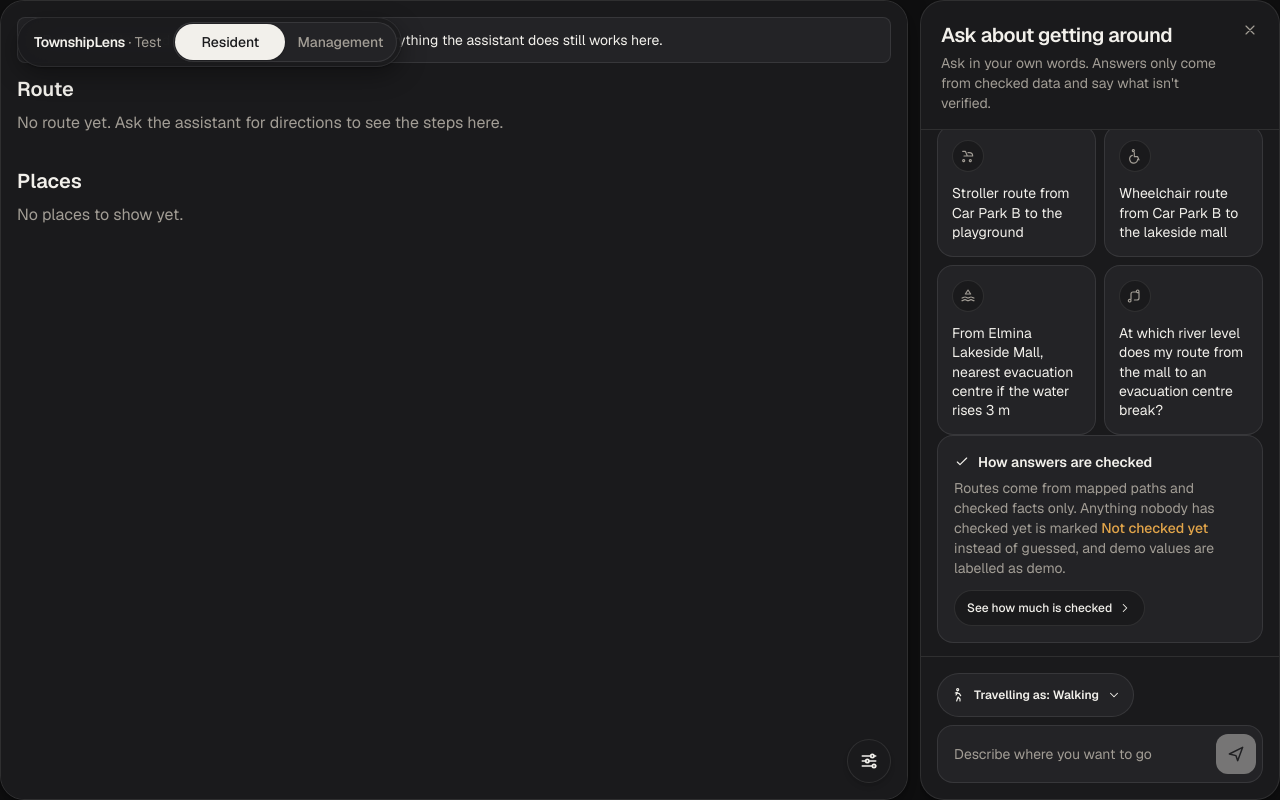
Scenario: MainPage › settings reveal the legend; +3 m shows the not-a-forecast note
The image size is (1280, 800).
(page scrolled)
Step 1. Click the button named "Map settings" → {"x": 869, "y": 761}, box x1=847 y1=739 x2=891 y2=783
(page scrolled)
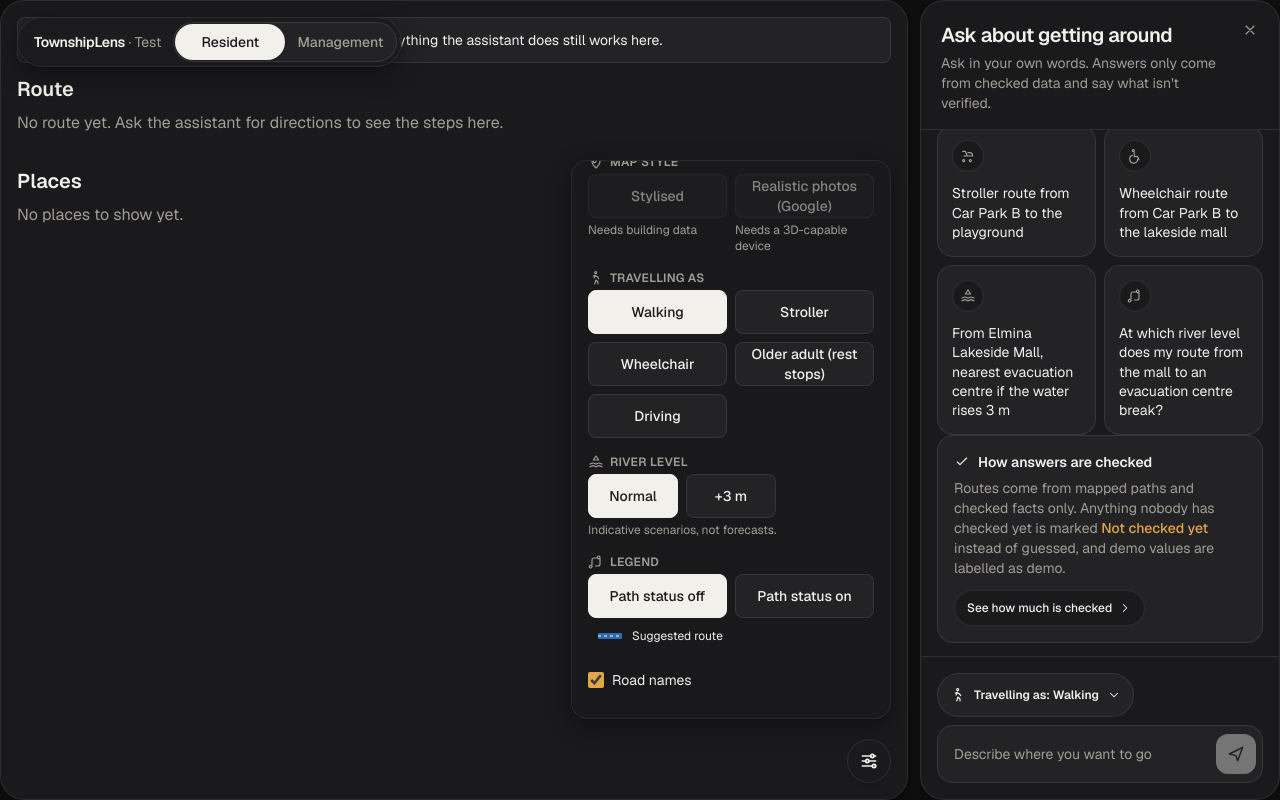
Check: the list named "Path status legend" is shown, box x1=596 y1=628 x2=723 y2=644
Step 2. Click the radio button labelled "+3 m" → {"x": 731, "y": 496}, box x1=686 y1=474 x2=776 y2=518
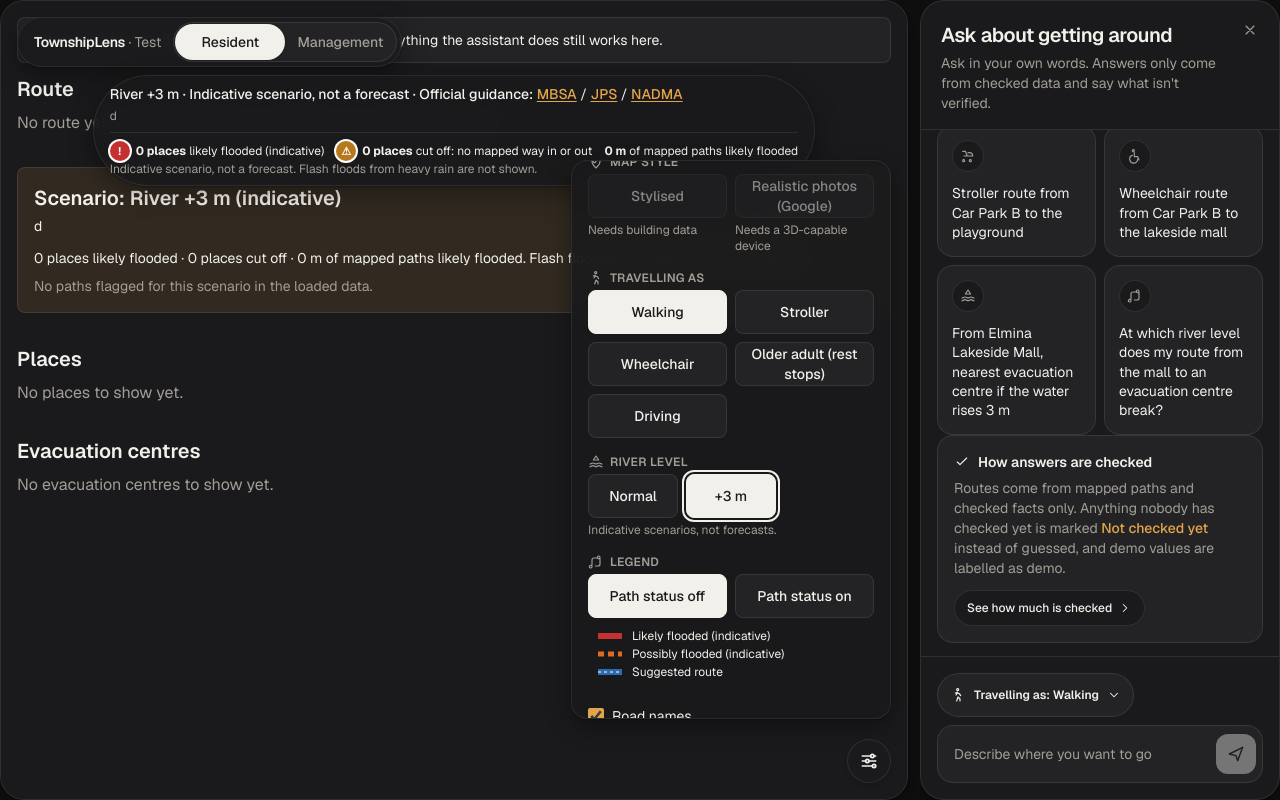
Check: the element that starts with "River +3 m" shows "not a forecast", box x1=179 y1=85 x2=533 y2=103
